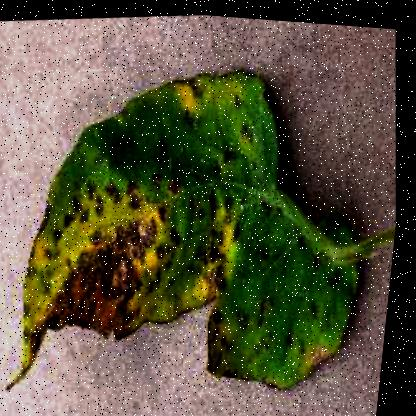BACTERIAL SPOT: (0, 33, 413, 415)
